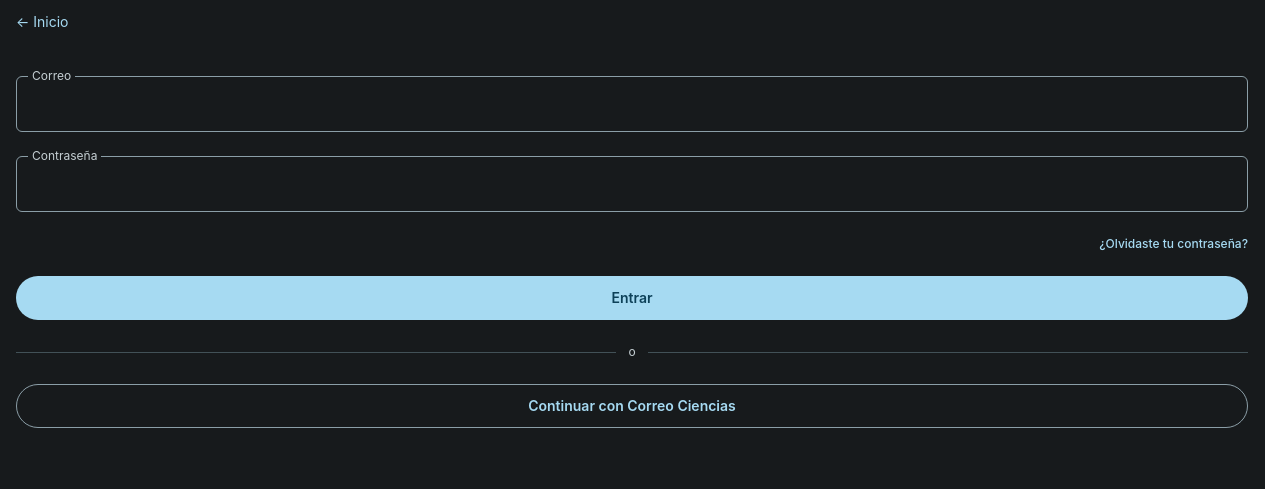
Test: Login › si el login con Google falla, muestra el error y no navega
Step 1. Click the button "Continuar con Correo Ciencias" → (632, 406), box [16,384,1248,428]
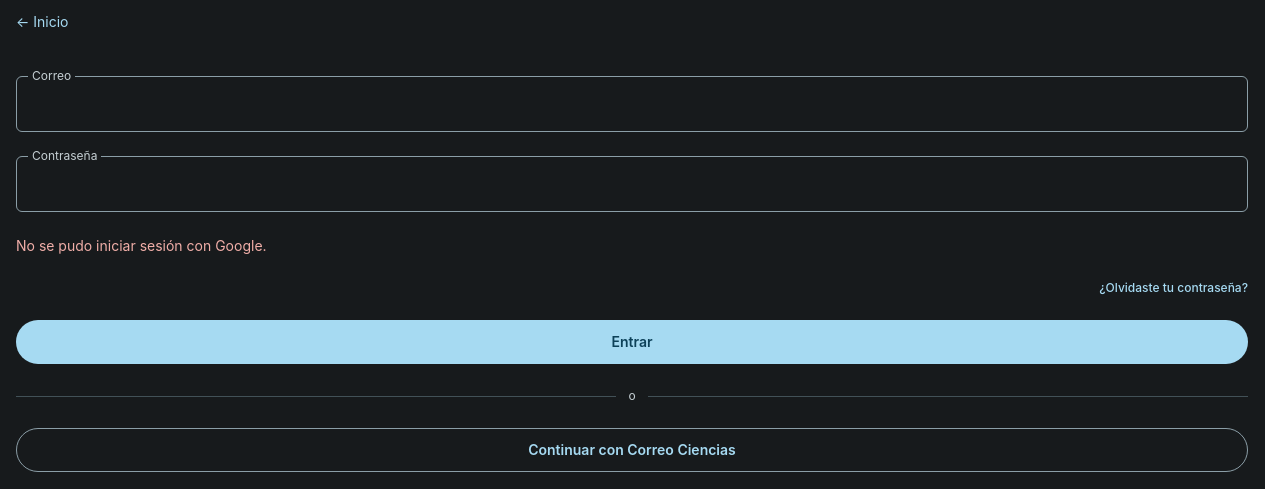
Expected: the message reads "No se pudo iniciar sesión con Google.", [16,237,267,254]
